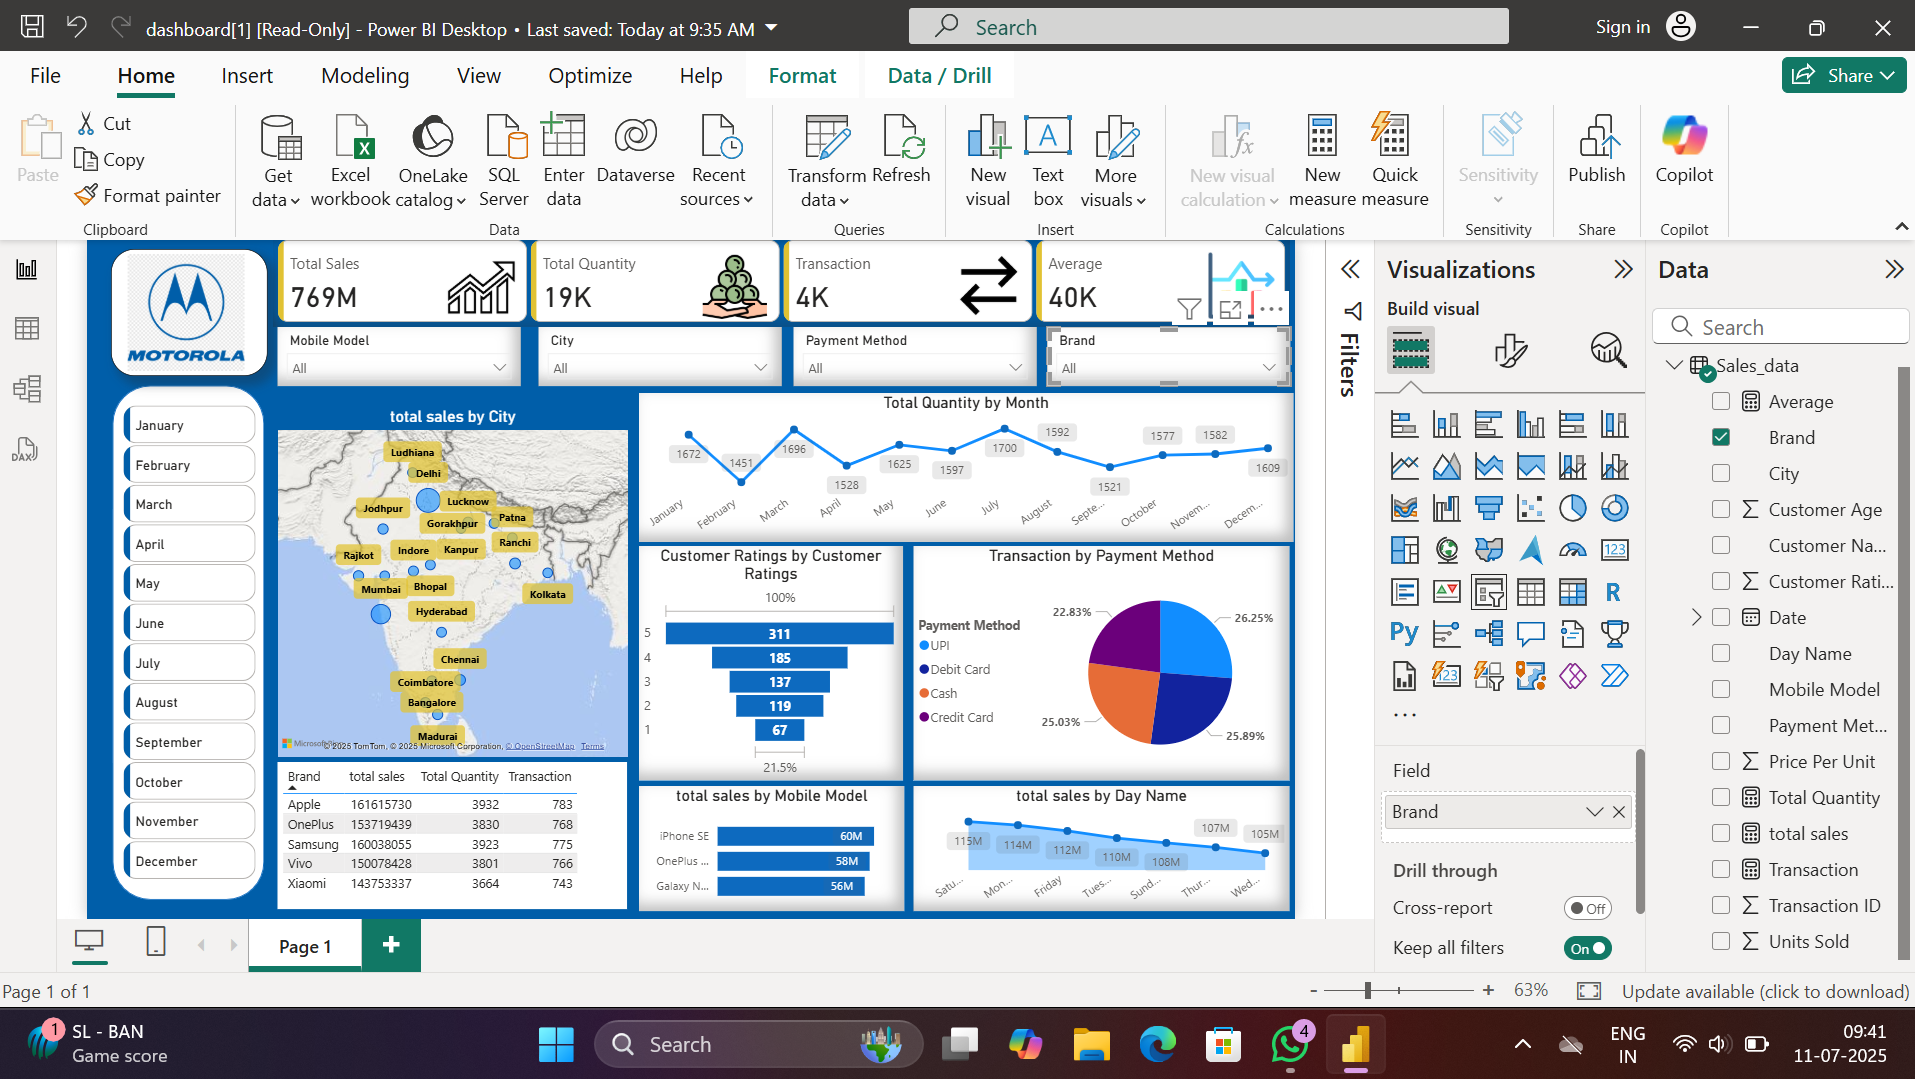

Layout of this report page (visuals, bound fields, positions):
{"tool":"powerbi","page":{"name":"Page 1","canvas":[1550,900],"ordinal":0},"visuals":[{"type":"shape","box":[9.9,9.9,149.1,153.1],"z":0},{"type":"image","box":[0,9.9,157.1,137.2],"z":1000},{"type":"shape","box":[8,178.9,153.1,711.8],"z":2000},{"type":"advancedSlicerVisual","fields":{"Values":["Sales data.Date.Variation.Date Hierarchy.Month"]},"box":[9.9,178.9,147.1,711.8],"z":3000},{"type":"cardVisual","fields":{"Data":["Sales data.sum of sales","Sales data.transaction","Sales data.Average price","Sales data.total quentity"]},"box":[173,9.9,483.1,264.4],"z":4000},{"type":"map","fields":{"Category":["Sales data.City"],"Size":["Sales data.sum of sales"]},"box":[172.9,277.1,483.3,508.3],"z":5000},{"type":"lineChart","fields":{"Y":["Sales data.total quentity"],"Category":["Sales data.Date.Variation.Date Hierarchy.Month","Sales data.Date.Variation.Date Hierarchy.Day"]},"box":[656.2,10.4,877.1,262.5],"z":6000},{"type":"clusteredColumnChart","fields":{"Y":["Sales data.sum of sales"],"Category":["Sales data.Mobile Model"]},"box":[945.8,279.2,250,293.8],"z":7000},{"type":"pieChart","fields":{"Y":["Sales data.transaction"],"Category":["Sales data.Payment Method"]},"box":[1204.2,279.2,329.2,293.8],"z":8000},{"type":"funnel","title":"Customer Ratings ","fields":{"Category":["Sales data.Customer Ratings"],"Y":["CountNonNull(Sales data.Customer Ratings)"]},"box":[662.5,468.8,277.1,404.2],"z":9000},{"type":"areaChart","fields":{"Y":["Sales data.sum of sales"],"Category":["Sales data.Day Name"]},"box":[950,581.2,583.3,291.7],"z":10000},{"type":"tableEx","fields":{"Values":["Sales data.sum of sales","Sales data.Brand","Sales data.total quentity"]},"box":[662.5,279.2,277.1,183.3],"z":11000},{"type":"slicer","fields":{"Values":["Sales data.Payment Method"]},"box":[172.9,800,220.8,81.2],"z":12000},{"type":"slicer","fields":{"Values":["Sales data.Brand"]},"box":[414.6,800,241.7,81.2],"z":13000}]}

Visuals, with their boxes on the page's 1550x900 design canvas (x1, y1, x2, y2). These are canvas units, not pixel positions in the 1915x1079 screenshot, which may show the page scaled, cropped or inside an application window:
shape: locate(10, 10, 159, 163)
image: locate(0, 10, 157, 147)
shape: locate(8, 179, 161, 891)
advancedSlicerVisual - Sales data.Date.Variation.Date Hierarchy.Month: locate(10, 179, 157, 891)
cardVisual - Sales data.sum of sales x Sales data.transaction: locate(173, 10, 656, 274)
map - Sales data.City x Sales data.sum of sales: locate(173, 277, 656, 785)
lineChart - Sales data.total quentity x Sales data.Date.Variation.Date Hierarchy.Month: locate(656, 10, 1533, 273)
clusteredColumnChart - Sales data.sum of sales x Sales data.Mobile Model: locate(946, 279, 1196, 573)
pieChart - Sales data.transaction x Sales data.Payment Method: locate(1204, 279, 1533, 573)
"Customer Ratings " funnel: locate(662, 469, 940, 873)
areaChart - Sales data.sum of sales x Sales data.Day Name: locate(950, 581, 1533, 873)
tableEx - Sales data.sum of sales x Sales data.Brand: locate(662, 279, 940, 462)
slicer - Sales data.Payment Method: locate(173, 800, 394, 881)
slicer - Sales data.Brand: locate(415, 800, 656, 881)
